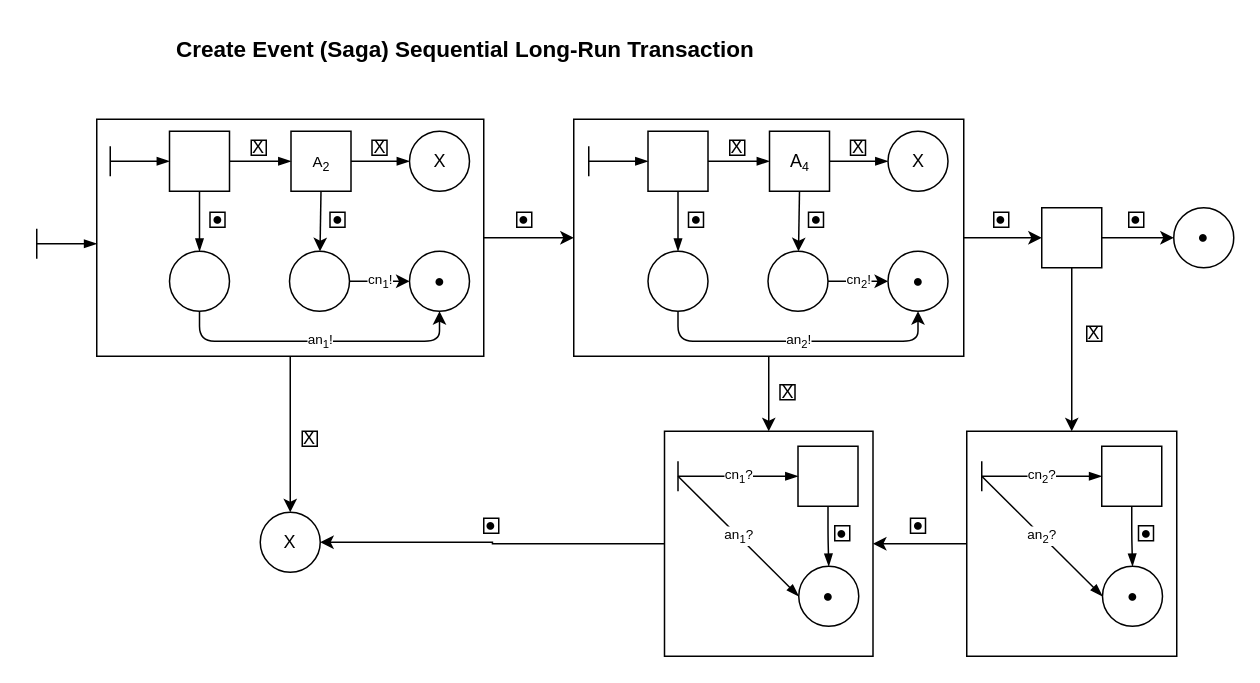
Some shapes in this 1260 by 683 pixel diagram are drawn without their labels. Here are the shapes that lost their labels. From the top down, the centre of each, then its label:
At point 199,160: "A 1".
At point 677,160: "A 3".
At point 1071,237: "A 5".
At point 827,475: "B 1".
At point 1131,475: "B 2".
